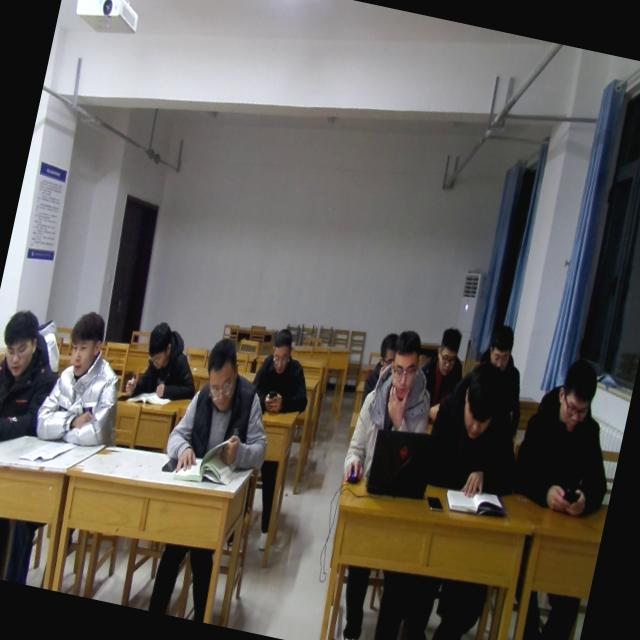down: (450, 362, 510, 446), (194, 332, 248, 418), (547, 354, 603, 432), (384, 322, 426, 402), (0, 306, 43, 382), (138, 315, 178, 372), (431, 322, 468, 380), (264, 321, 300, 375), (484, 322, 518, 368), (376, 329, 402, 366)
lookup: (58, 308, 112, 382)
sit: (504, 350, 634, 519), (160, 327, 288, 490), (416, 355, 540, 507), (340, 324, 447, 499), (29, 301, 138, 458), (0, 300, 71, 453), (123, 316, 208, 413), (246, 322, 322, 419), (410, 321, 476, 428), (471, 320, 542, 410), (358, 326, 402, 416)
